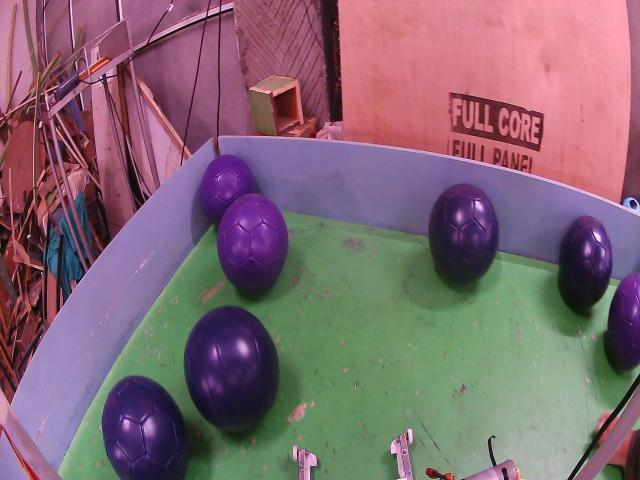jambhalya: (218, 193, 289, 292), (200, 155, 255, 225), (605, 273, 640, 370)
kaalyya: (184, 307, 279, 432), (101, 375, 190, 480), (429, 183, 499, 282), (558, 215, 612, 312)
